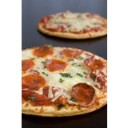pepperonipizza: (19, 47, 108, 112), (40, 13, 106, 36)
